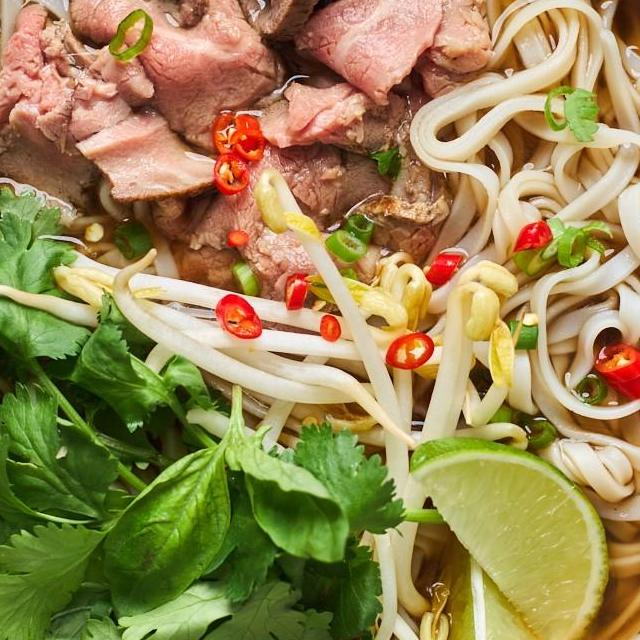banh pho: (397, 0, 640, 451), (528, 353, 640, 640), (0, 0, 47, 212)
pho bo: (0, 0, 640, 640)
thit bo: (54, 0, 304, 164), (0, 0, 166, 237), (168, 136, 364, 328), (274, 0, 502, 114), (74, 111, 228, 208), (195, 0, 449, 47)
